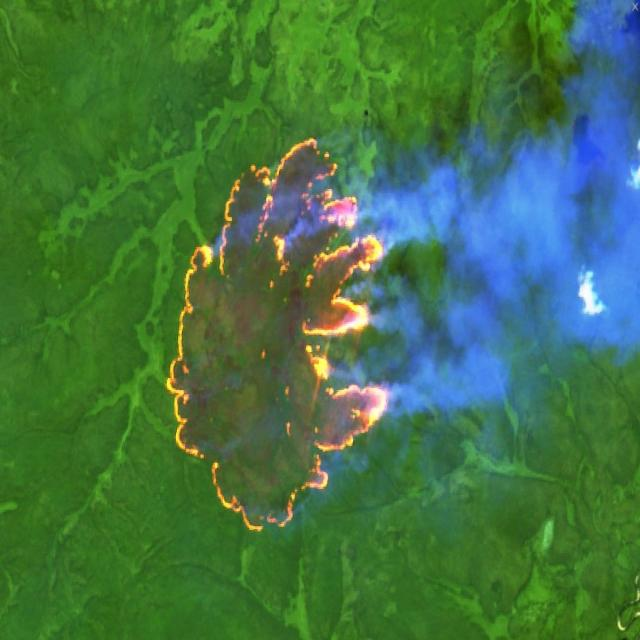fire: (161, 132, 393, 536)
